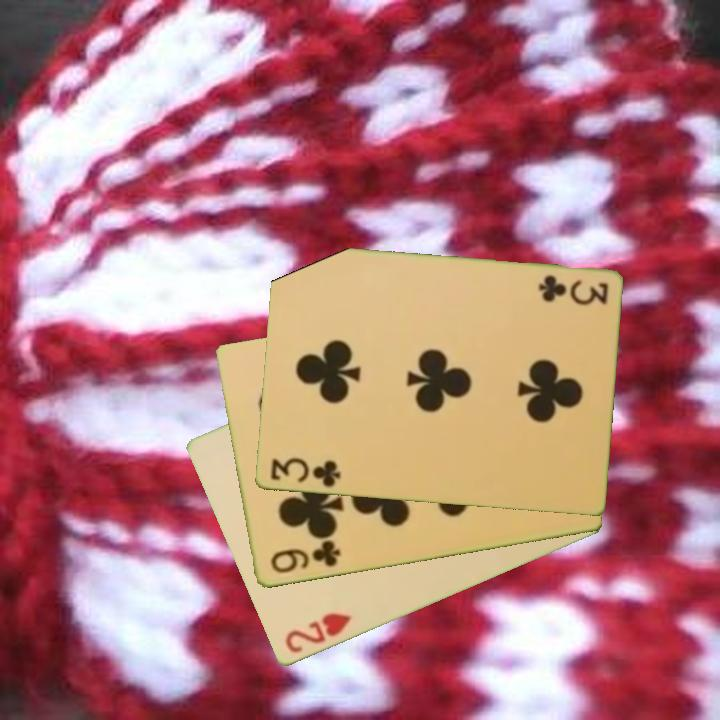2h: (281, 610, 354, 657)
3c: (266, 454, 343, 491), (534, 272, 611, 307)
9c: (266, 538, 343, 577)
